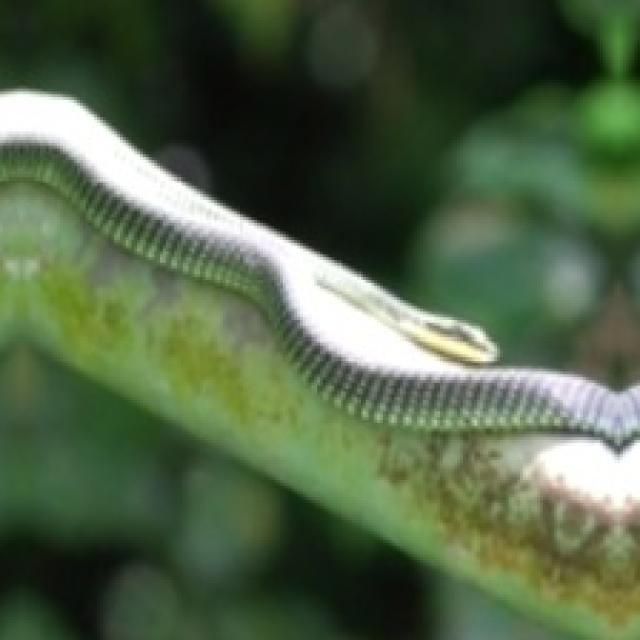paradise tree snake: (0, 91, 637, 637), (0, 91, 637, 446)
